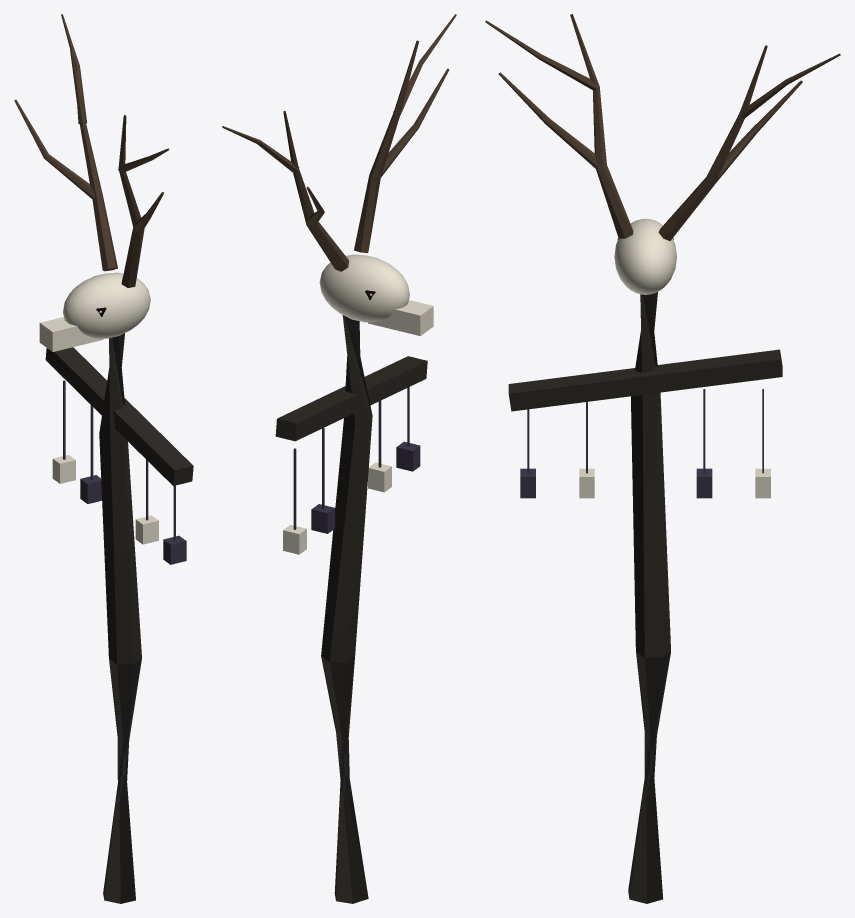
File: totem.glb
3 views of the same model, side by side, from view 1: azimuth 30°, elevation 25°; view 2: azimuth 150°, elevation 25°; view 3: azimuth 270°, elevation 25° (orthographic). The views are drawn at different scales.
Visible parts, largest first — view 1: totem; view 2: totem; view 3: totem.
Part boxes in pixels (box(x1,y1,x2,y2)): totem: box(14, 14, 193, 903); totem: box(222, 14, 456, 903); totem: box(485, 14, 840, 903).
Size of the model in its own units: 0.3388 by 2.44 by 0.9085.
